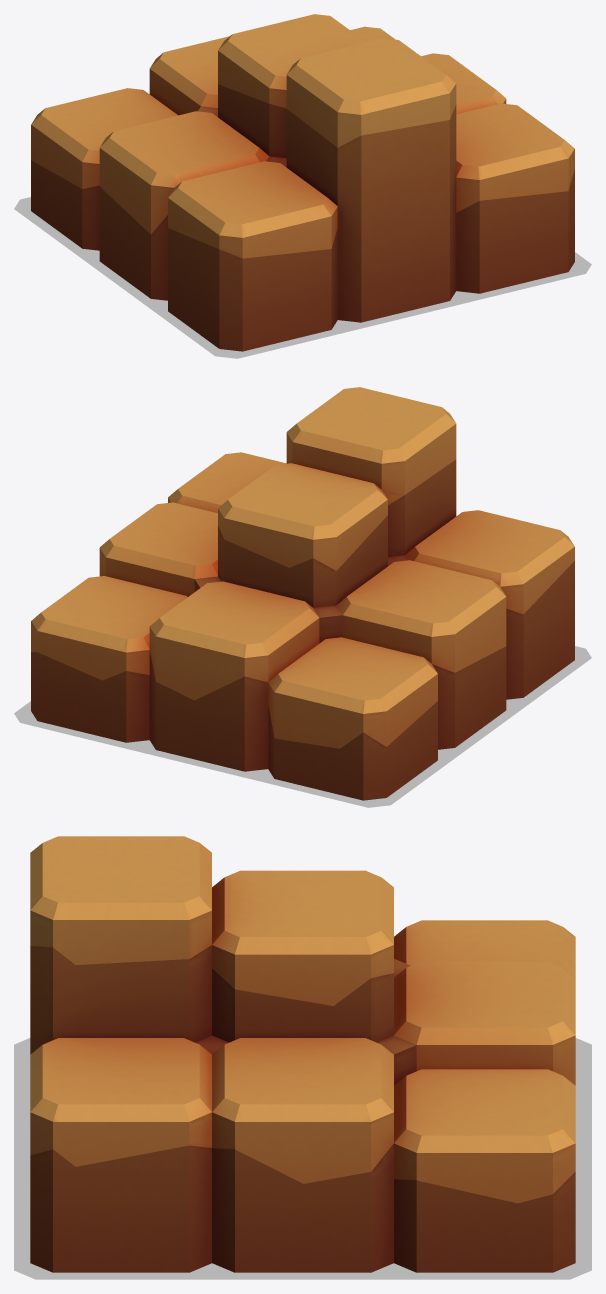
File: 3x3_ground.FBX
3 views of the same model, one above another, from view 1: azimuth 30°, elevation 25°; view 2: azimuth 150°, elevation 25°; view 3: azimuth 270°, elevation 25° (orthographic). The views are drawn at different scales.
Parts seen in each view (by area): view 1: 3x3_ground, 3x3_ground_soft_shadow; view 2: 3x3_ground, 3x3_ground_soft_shadow; view 3: 3x3_ground, 3x3_ground_soft_shadow.
Boxes of the visible parts, x1=… form: 3x3_ground: x1=31, y1=14, x2=574, y2=351; 3x3_ground_soft_shadow: x1=14, y1=197, x2=591, y2=358; 3x3_ground: x1=31, y1=387, x2=574, y2=800; 3x3_ground_soft_shadow: x1=14, y1=646, x2=591, y2=807; 3x3_ground: x1=30, y1=836, x2=575, y2=1272; 3x3_ground_soft_shadow: x1=14, y1=1038, x2=591, y2=1279.
Size of the model in its own units: 3180 by 1759 by 3180.
